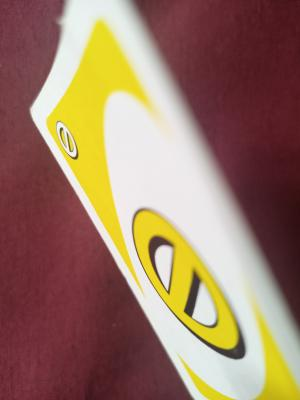skip: (54, 117, 81, 162)
yellow: (53, 89, 197, 226)
